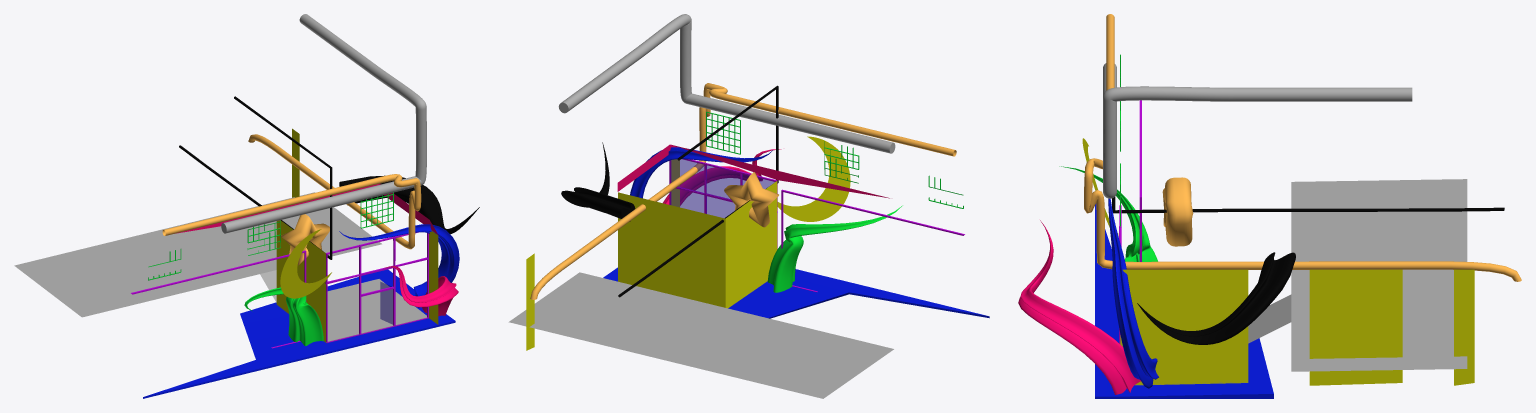
The model's file is agc-store.gltf.
3 renders of one model, left to right at view 1: azimuth 30°, elevation 25°; view 2: azimuth 150°, elevation 25°; view 3: azimuth 270°, elevation 25°, orthographic. The views are drawn at different scales.
Visible parts, largest first — view 1: Cube.010, Box, Object.001, Cube.009, Object, Cube, Object.007, Object.009, BezierCurve, BezierCircle, Object.010, Star (+9 smaller); view 2: Cube.010, Cube, Object.001, Box, Object, Cube.004, Object.007, BezierCircle, Box.001, BezierCurve, Star, Object.009 (+6 smaller); view 3: Cube.010, Cube, Cube.011, Object.001, Object, Box, Object.010, BezierCurve, Object.009, Cube.012, Star, Object.002 (+2 smaller).
Part boxes in pixels (box(x1,y1,x2,y2)): Cube.010: box(14, 192, 381, 317); Box: box(143, 269, 455, 398); Object.001: box(221, 14, 426, 233); Cube.009: box(276, 279, 427, 342); Object: box(162, 134, 421, 249); Cube: box(276, 220, 325, 341); Object.007: box(244, 287, 323, 345); Object.009: box(339, 224, 459, 307); BezierCurve: box(339, 175, 479, 234); BezierCircle: box(280, 229, 331, 298); Object.010: box(383, 266, 458, 316); Star: box(281, 214, 329, 265); Cube.010: box(508, 272, 893, 398); Cube: box(618, 181, 777, 308); Object.001: box(558, 14, 895, 153); Box: box(603, 267, 989, 318); Object: box(530, 83, 956, 299); Cube.004: box(670, 159, 774, 217); Object.007: box(767, 205, 902, 292); BezierCircle: box(777, 136, 850, 221); Box.001: box(617, 144, 889, 198); BezierCurve: box(561, 142, 635, 221); Star: box(724, 172, 778, 227); Object.009: box(630, 147, 772, 198); Cube.010: box(1248, 179, 1467, 371); Cube: box(1120, 269, 1248, 385); Cube.011: box(1309, 269, 1402, 385); Object.001: box(1103, 63, 1412, 198); Object: box(1084, 14, 1521, 281); Box: box(1095, 203, 1273, 398); Object.010: box(1018, 220, 1140, 394); BezierCurve: box(1137, 252, 1295, 344); Object.009: box(1108, 198, 1158, 388); Cube.012: box(1454, 269, 1474, 385); Star: box(1162, 177, 1193, 246); Object.002: box(1112, 197, 1504, 213).
Size of what is drawn, in the model's own units: 20.64 by 12.74 by 19.68.
